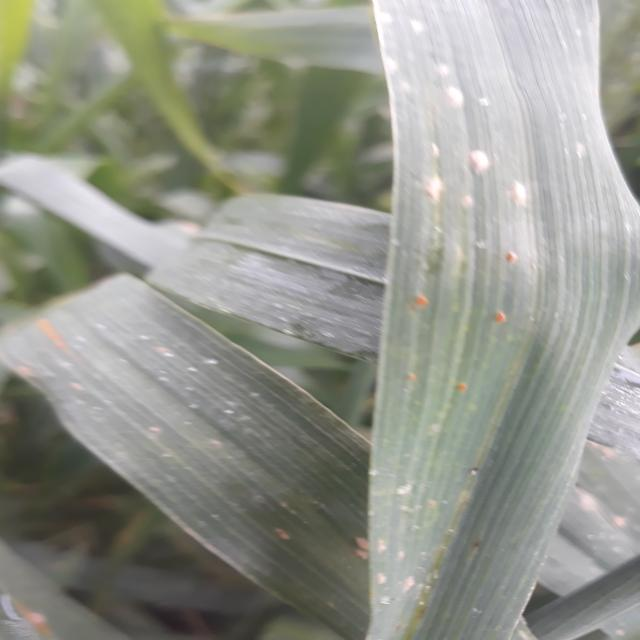orang_rust: (394, 247, 546, 406), (399, 536, 513, 640), (26, 311, 112, 364), (0, 598, 67, 636)
powder_mildew: (20, 366, 372, 578), (351, 3, 568, 237), (560, 447, 640, 558)
